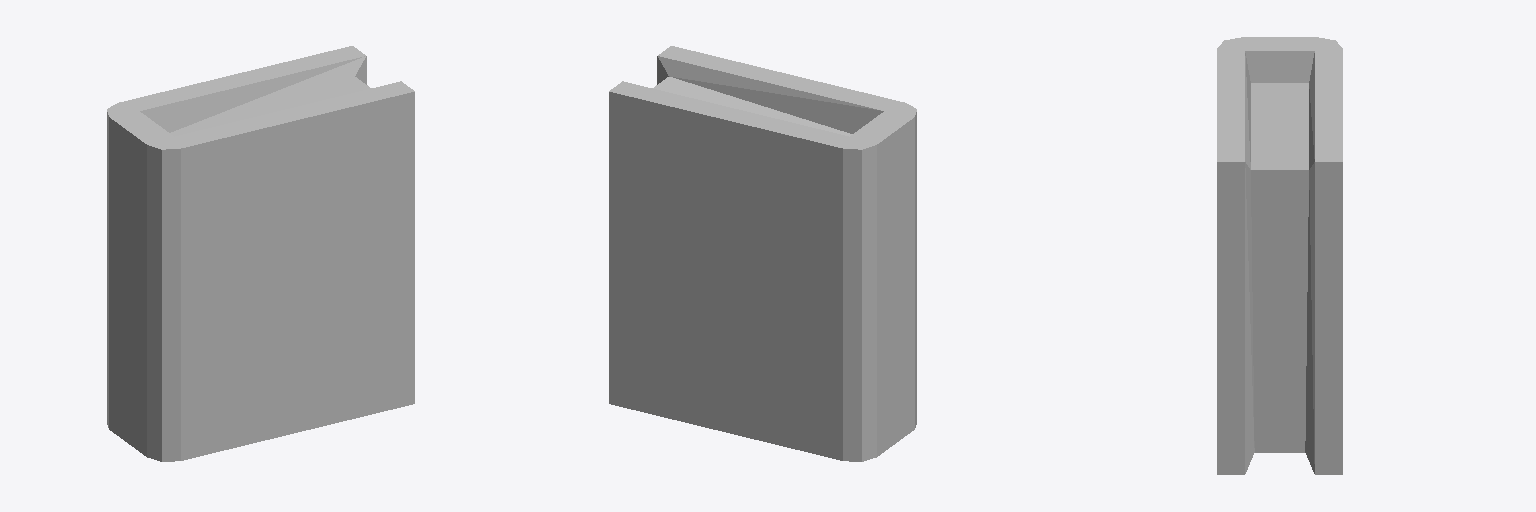
File: Book.obj
The picture shows the model from 3 angles: view 1: azimuth 30°, elevation 25°; view 2: azimuth 150°, elevation 25°; view 3: azimuth 270°, elevation 25°; orthographic projection.
Visible parts, largest first — view 1: Book; view 2: Book; view 3: Book.
Part boxes in pixels (left/top/right/bottom): Book: left=107, top=46, right=414, bottom=461; Book: left=609, top=46, right=916, bottom=461; Book: left=1217, top=37, right=1342, bottom=474.
Size of the model in its own units: 0.2985 by 0.3483 by 0.1265.